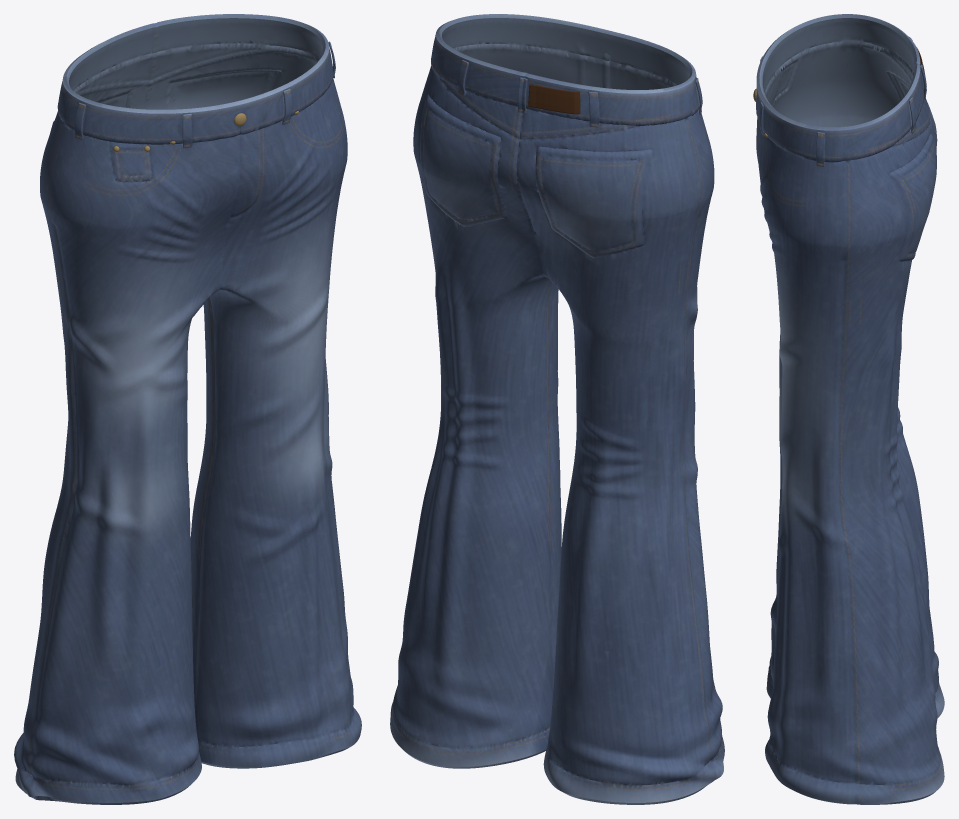
Rendered from 25_vaquero_flare_pbr.glb.
3 renders of one model, left to right at view 1: azimuth 30°, elevation 25°; view 2: azimuth 150°, elevation 25°; view 3: azimuth 270°, elevation 25°, orthographic. The views are drawn at different scales.
Visible parts, largest first — view 1: Vaquero PBR; view 2: Vaquero PBR, Etiqueta de piel; view 3: Vaquero PBR.
Boxes of the visible parts, x1,y1,x2,y2 form: Vaquero PBR: (14, 14, 361, 804); Vaquero PBR: (390, 14, 724, 804); Etiqueta de piel: (528, 84, 580, 114); Vaquero PBR: (756, 14, 944, 804).
Bounding box in the file's own units: 0.4743 × 1.01 × 0.2568.
Materials: 3 (1 with a texture image).
